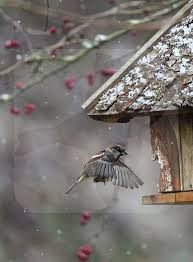hsparrow: (58, 142, 146, 202)
